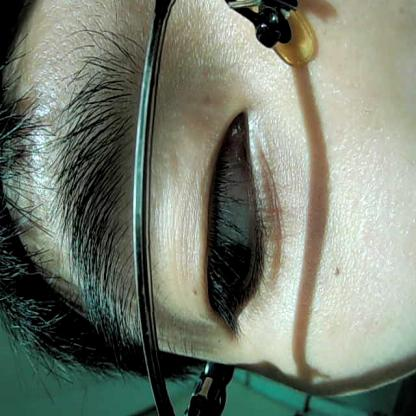Right: (186, 100, 279, 339)
